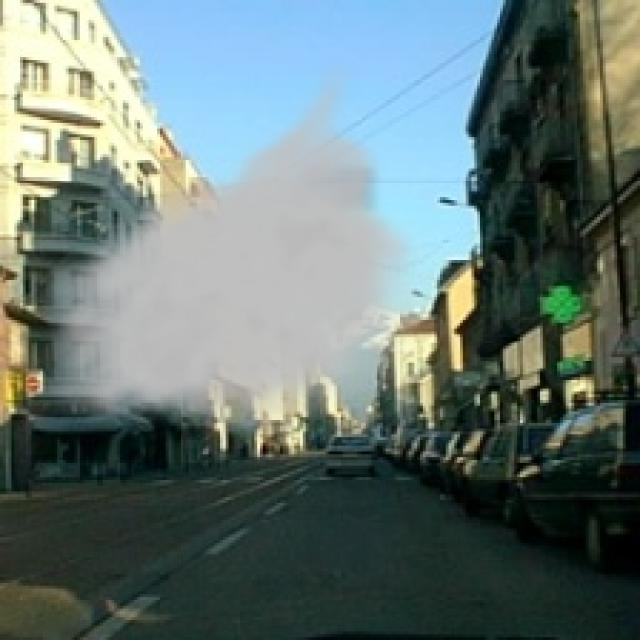smoke: (23, 57, 428, 443)
